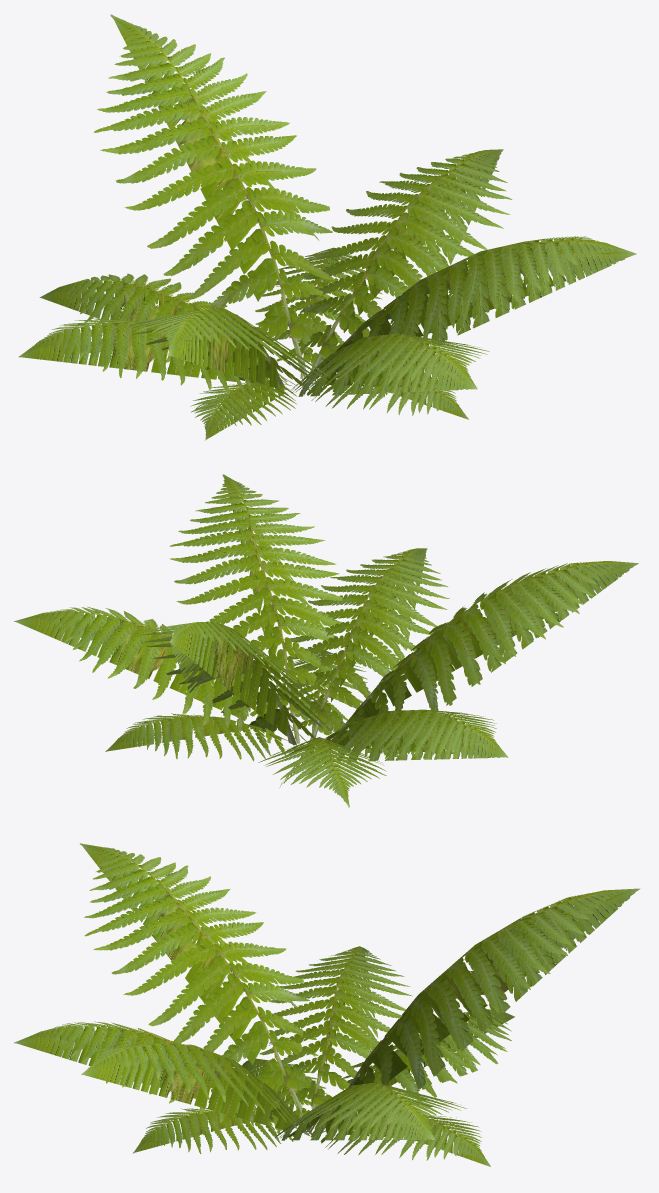
File: helecho.glb
The picture shows the model from 3 angles, top to bottom: view 1: azimuth 30°, elevation 25°; view 2: azimuth 150°, elevation 25°; view 3: azimuth 270°, elevation 25°; orthographic projection. The views are drawn at different scales.
Parts seen in each view (by area): view 1: cerca, lejos; view 2: cerca, lejos; view 3: cerca, lejos.
Boxes of the visible parts, box(x1,y1,x2,y2) form: cerca: box(18, 14, 636, 440); lejos: box(20, 19, 635, 439); cerca: box(14, 474, 638, 807); lejos: box(16, 481, 638, 801); cerca: box(14, 843, 640, 1166); lejos: box(16, 845, 639, 1166).
Bounding box in the file's own units: 2.09 × 0.9001 × 2.17.
1 material, 1 textured.
